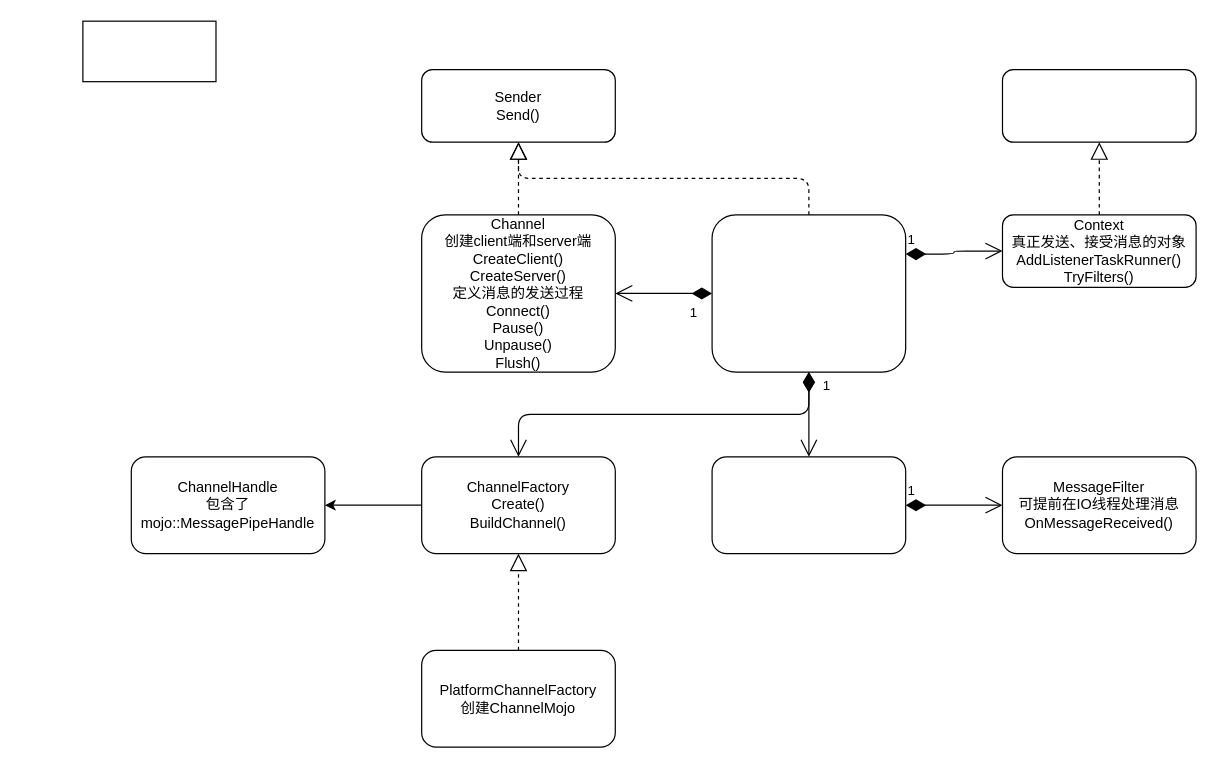
Some shapes in this 1217 by 768 pixel diagram are drawn without their labels. The centre of each missing label's shape, as x and y in pixels:
"ChannelProxy 在IO线程运行Channel以及分析消息至主线程、MessageFilter等 OnDispatchMessage() Send()" belongs at (x=808, y=293).
"Listener 消息的消费者抽象接口 OnMessageRecevied() OnChannelConnected()" belongs at (x=1098, y=105).
"MessageFilterRouter MessageFilter的集合 AddFilter() RemoveFilter() TryFilter()" belongs at (x=808, y=505).
"每个routing_id可以注册一个task_runner" belongs at (x=149, y=51).
